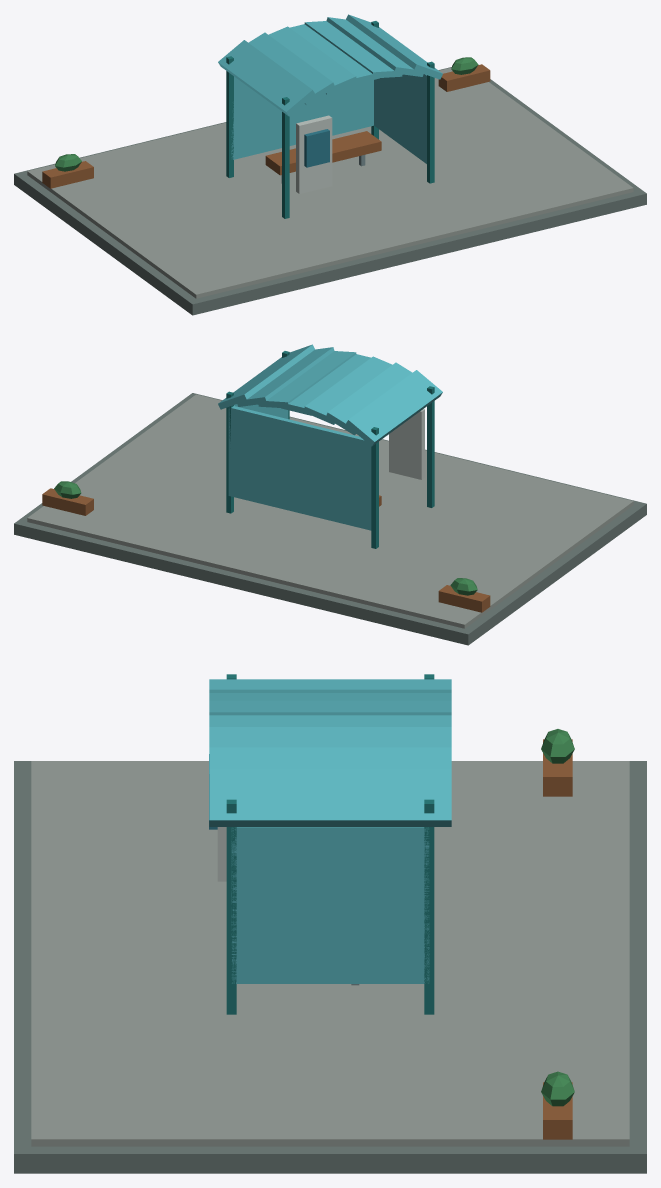
The model's file is bus_stop_lv1.glb.
3 views of the same model, one above another, from view 1: azimuth 30°, elevation 25°; view 2: azimuth 150°, elevation 25°; view 3: azimuth 270°, elevation 25° (orthographic). The views are drawn at different scales.
Parts seen in each view (by area): view 1: rough, glossy; view 2: rough, glossy; view 3: rough, glossy.
Part boxes in pixels (bbox=[...]): rough: bbox=[14, 21, 646, 315]; glossy: bbox=[218, 14, 442, 167]; rough: bbox=[14, 351, 646, 645]; glossy: bbox=[218, 344, 442, 530]; rough: bbox=[14, 674, 646, 1173]; glossy: bbox=[209, 679, 451, 983].
Size of the model in its own units: 9.4 by 2.87 by 6.4.
